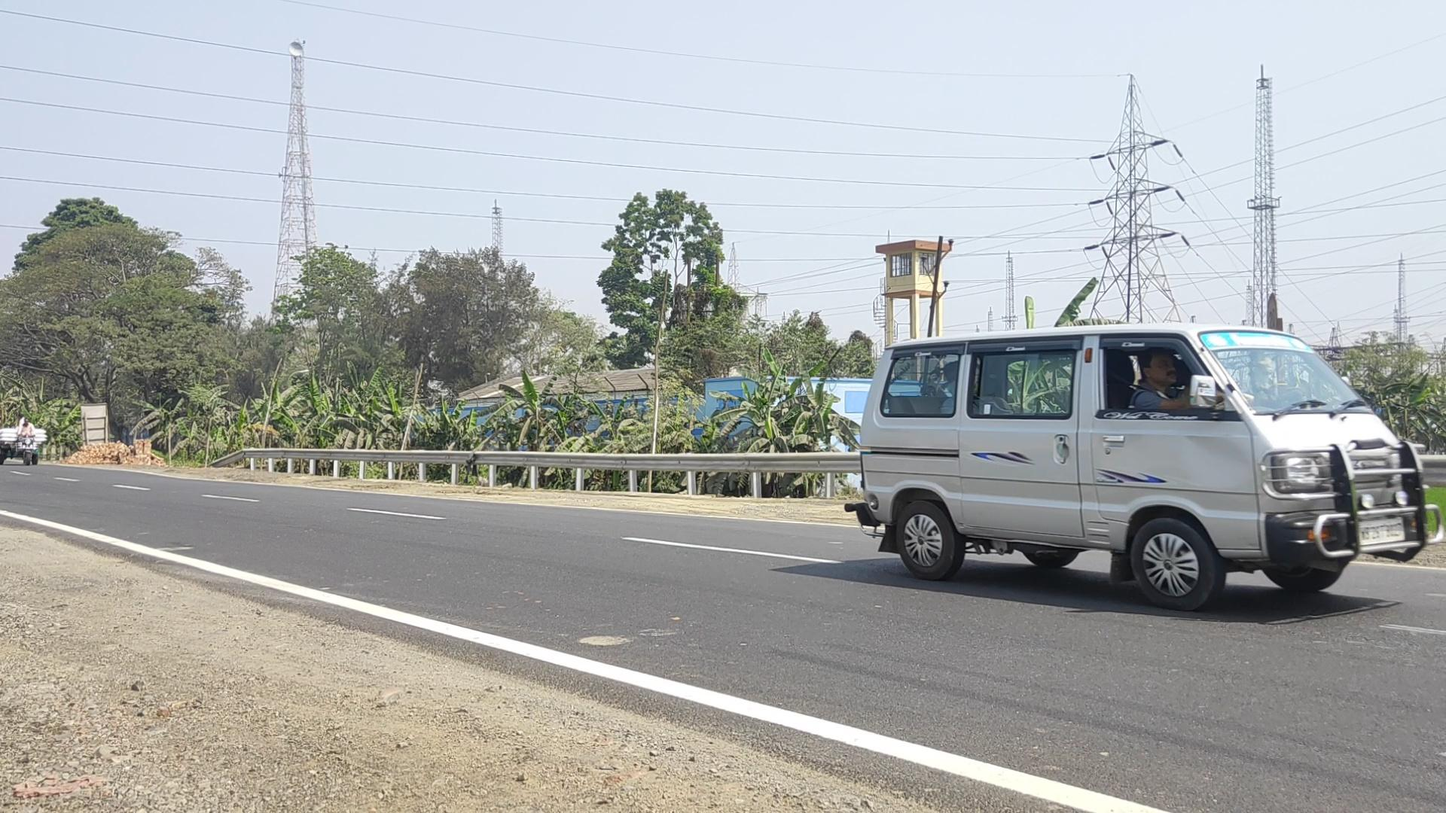van: (845, 323, 1441, 609)
